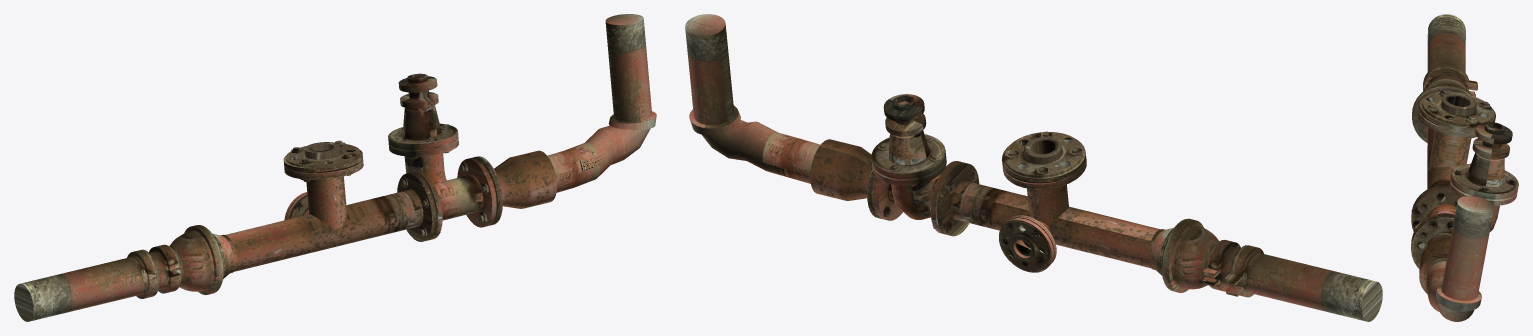
File: OLD RED-ISH.fbx
3 renders of one model, left to right at view 1: azimuth 30°, elevation 25°; view 2: azimuth 150°, elevation 25°; view 3: azimuth 270°, elevation 25°, orthographic. The views are drawn at different scales.
Visible parts, largest first — view 1: OLD RED-ISH.001; view 2: OLD RED-ISH.001; view 3: OLD RED-ISH.001.
Boxes of the visible parts, bbox=[...] form: OLD RED-ISH.001: bbox=[14, 14, 656, 321]; OLD RED-ISH.001: bbox=[685, 14, 1382, 321]; OLD RED-ISH.001: bbox=[1411, 14, 1518, 321].
Size of the model in its own units: 14.56 by 3.46 by 2.2.
